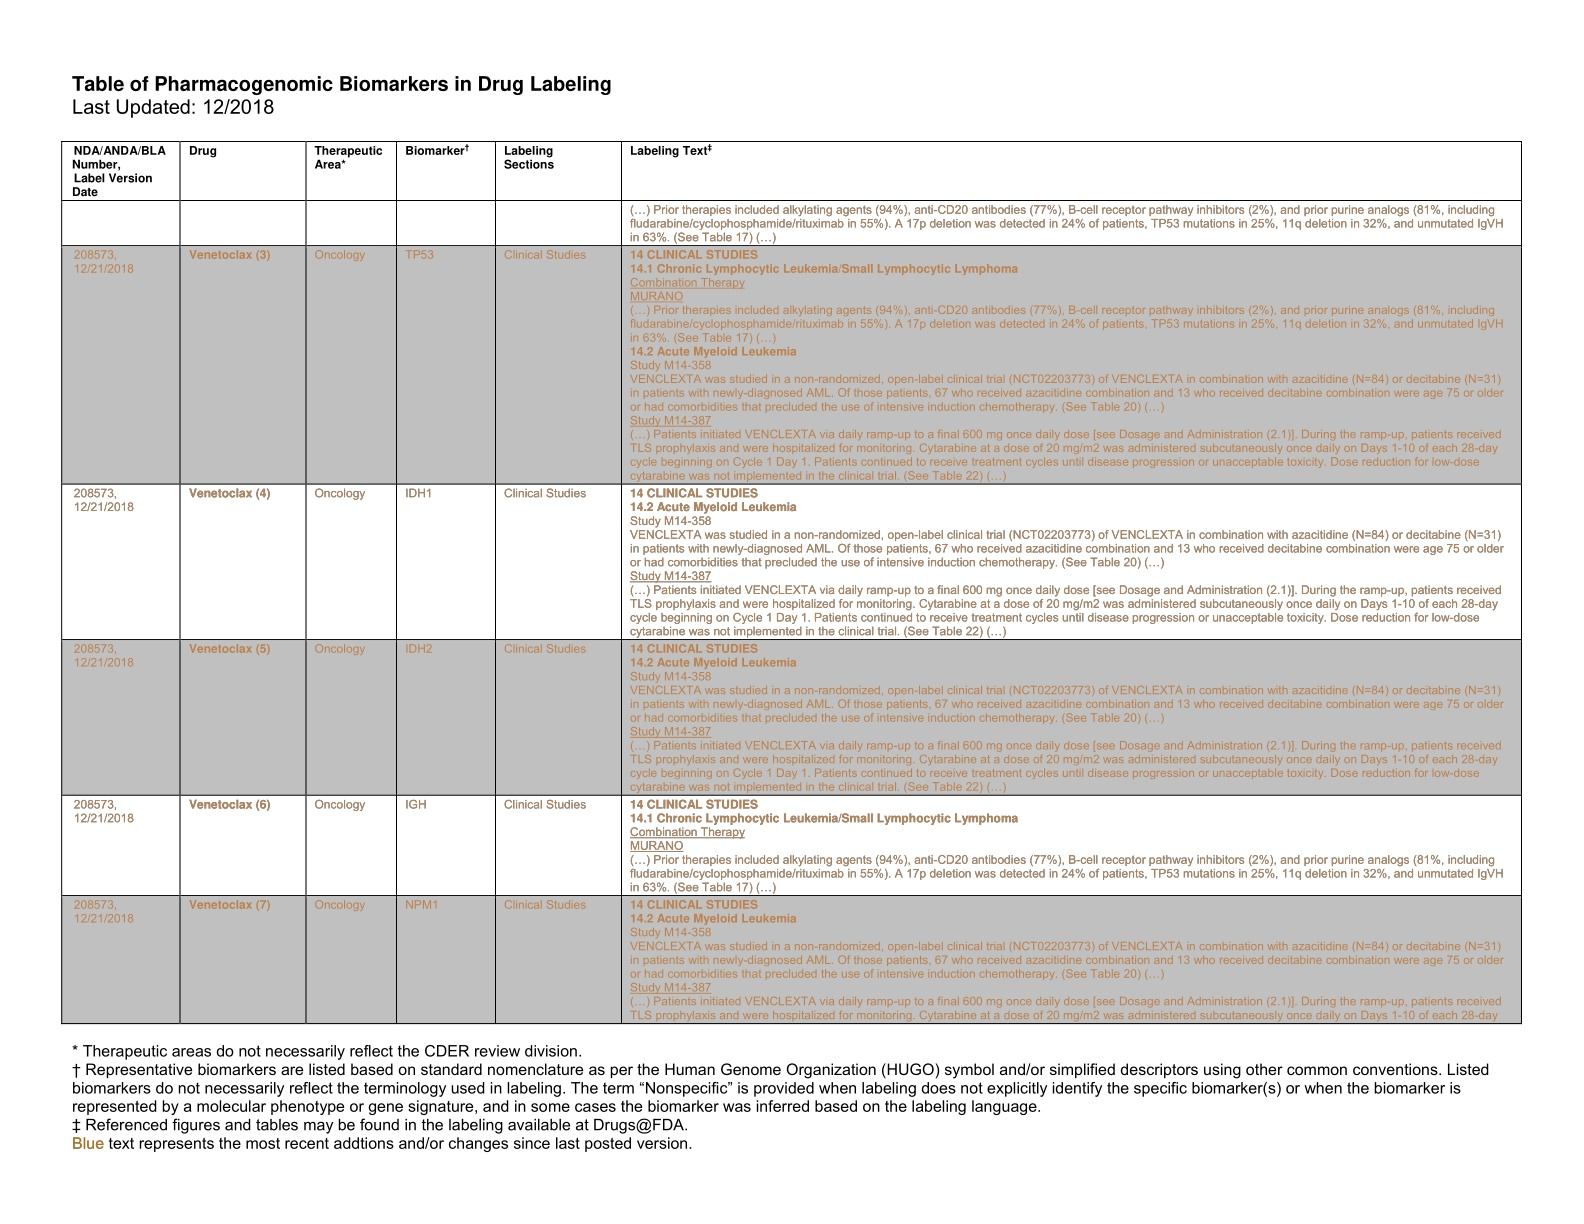full_lined: (51, 141, 1531, 1030)
